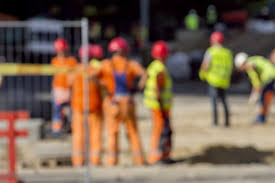helmet: (153, 41, 168, 60), (111, 40, 129, 51), (207, 32, 224, 43)
vest: (148, 65, 171, 109), (249, 57, 275, 86), (211, 49, 230, 87)
